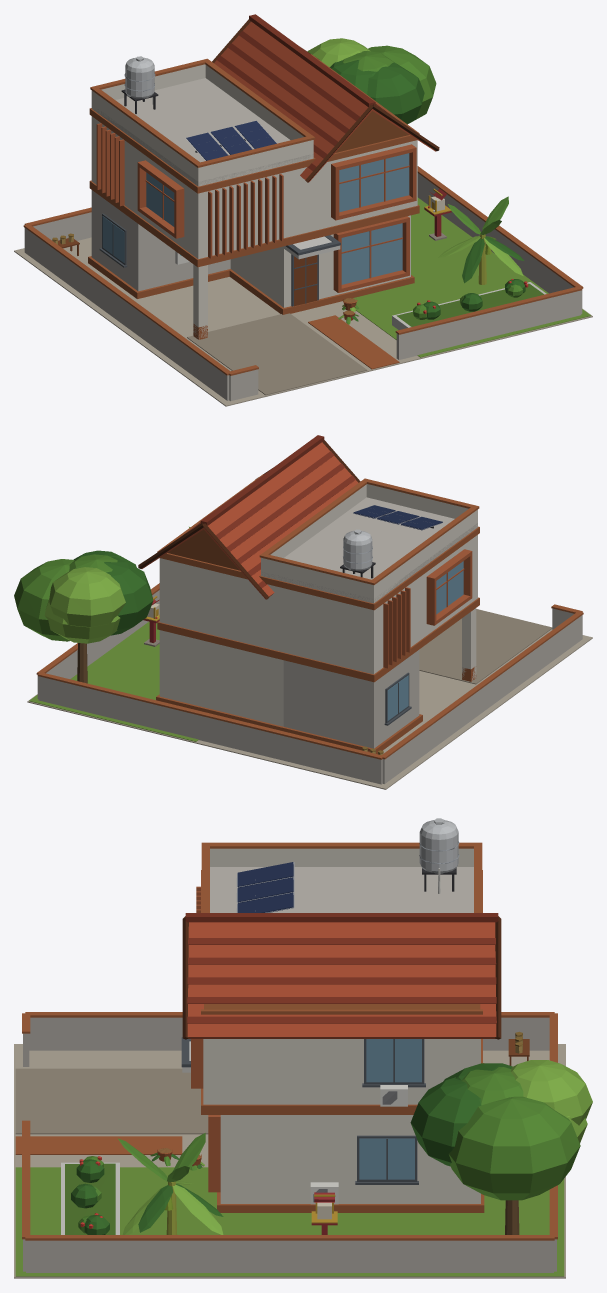
File: home_1.glb
3 renders of one model, top to bottom at view 1: azimuth 30°, elevation 25°; view 2: azimuth 150°, elevation 25°; view 3: azimuth 270°, elevation 25°, orthographic. The views are drawn at different scales.
Parts seen in each view (by area): view 1: body; view 2: body; view 3: body.
Boxes of the visible parts, x1,y1,x2,y2 form: body: [14, 14, 592, 406]; body: [14, 435, 592, 789]; body: [14, 818, 592, 1278].
Size of the model in its own units: 17.04 by 9.04 by 16.68.
